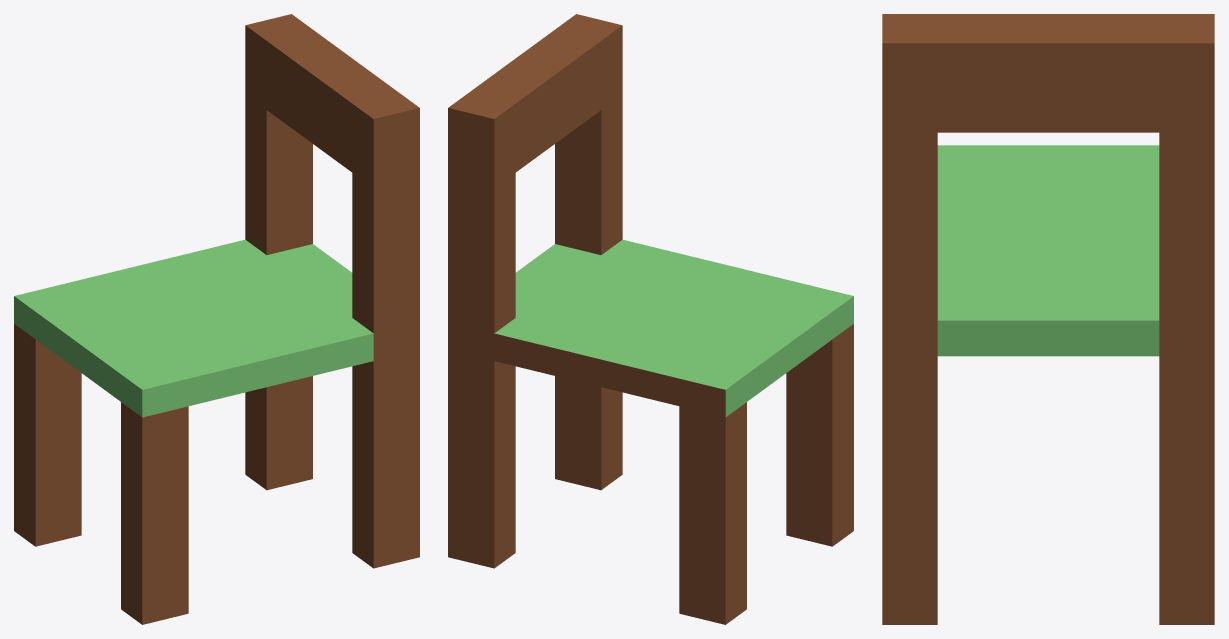
The model's file is Krzeslo.fbx.
3 views of the same model, side by side, from view 1: azimuth 30°, elevation 25°; view 2: azimuth 150°, elevation 25°; view 3: azimuth 270°, elevation 25° (orthographic). The views are drawn at different scales.
Parts seen in each view (by area): view 1: Krzeslo; view 2: Krzeslo; view 3: Krzeslo.
Boxes of the visible parts, box(x1,y1,x2,y2) form: Krzeslo: box(14, 14, 419, 624); Krzeslo: box(448, 14, 853, 624); Krzeslo: box(882, 14, 1214, 624).
Bounding box in the file's own units: 42 × 33.62 × 65.
